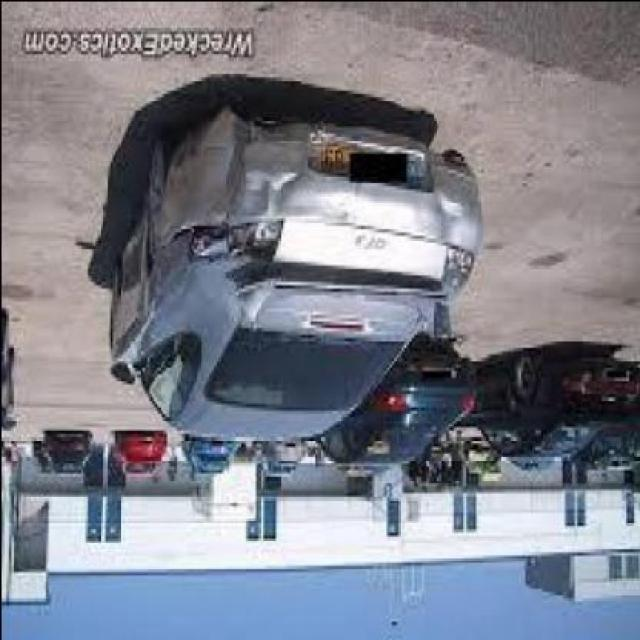damage: (185, 103, 468, 307)
